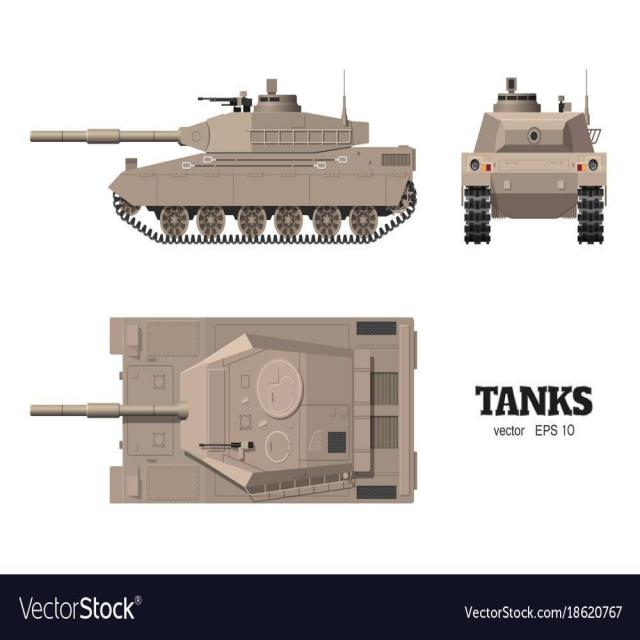Tanks: (16, 50, 423, 284), (23, 302, 434, 515), (446, 66, 607, 272)
